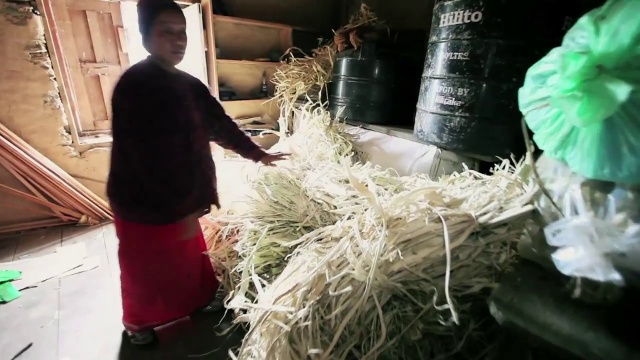person: (98, 4, 291, 348)
